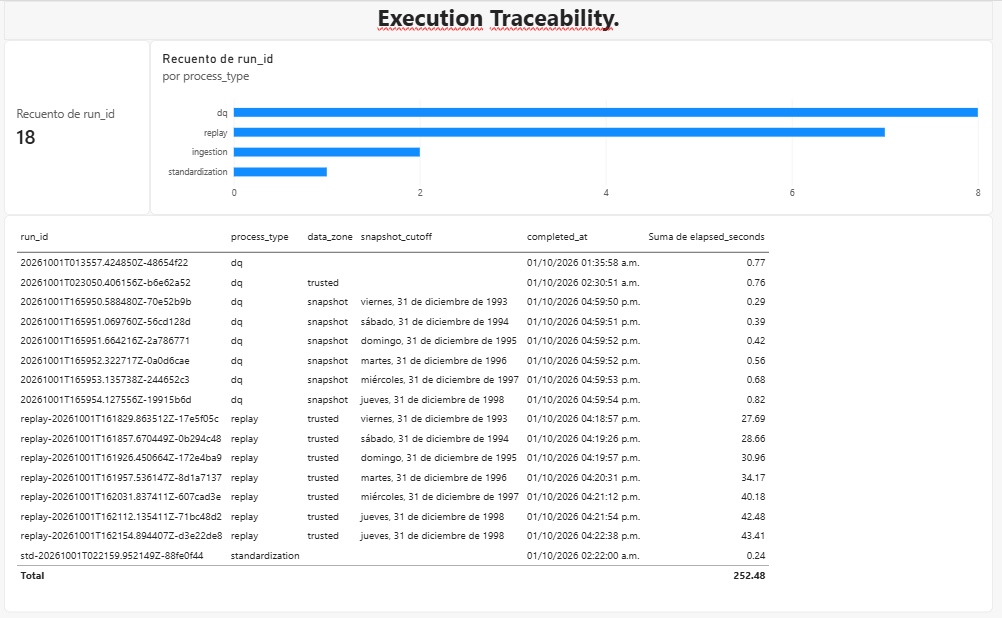

What the dashboard file says about the page in this screenshot:
{"tool":"powerbi","page":{"name":"Execution Run History","canvas":[1920,1080],"ordinal":3},"visuals":[{"type":"textbox","box":[9.7,0,1369.1,54],"z":0},{"type":"cardVisual","fields":{"Data":["Count(execution_runs.run_id)"]},"box":[9.7,54,202.1,242.2],"z":1},{"type":"clusteredBarChart","fields":{"Category":["execution_runs.process_type"],"Y":["Count(execution_runs.run_id)"]},"box":[211.8,54,1167,242.2],"z":2},{"type":"tableEx","fields":{"Values":["execution_runs.run_id","execution_runs.process_type","execution_runs.data_zone","execution_runs.snapshot_cutoff","execution_runs.completed_at","Sum(execution_runs.elapsed_seconds)"]},"box":[9.7,296.2,1369.1,549.6],"z":3}]}

Visuals, with their boxes on the page's 1920x1080 design canvas (x1, y1, x2, y2). These are canvas units, not pixel positions in the 1002x618 screenshot, which may show the page scaled, cropped or inside an application window:
textbox: locate(10, 0, 1379, 54)
cardVisual - Count(execution_runs.run_id): locate(10, 54, 212, 296)
clusteredBarChart - execution_runs.process_type x Count(execution_runs.run_id): locate(212, 54, 1379, 296)
tableEx - execution_runs.run_id x execution_runs.process_type: locate(10, 296, 1379, 846)
